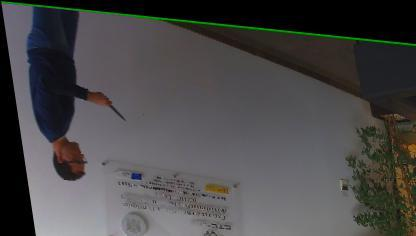knife: (95, 88, 124, 120)
